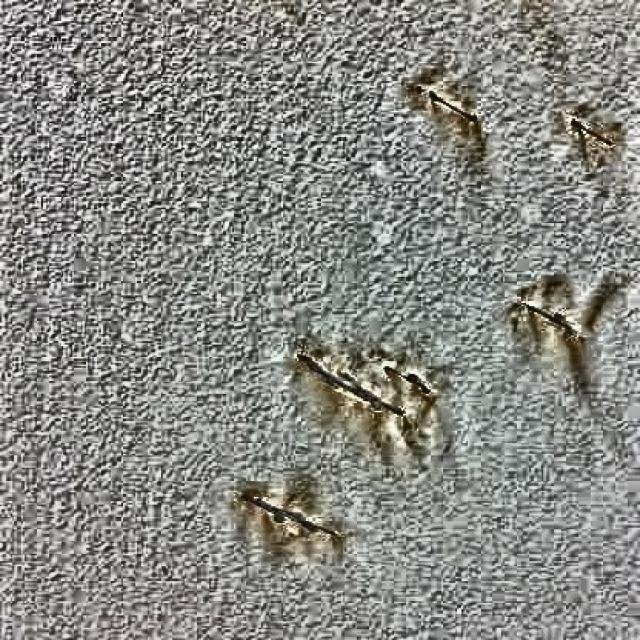crack: (298, 360, 400, 417), (245, 491, 342, 540), (523, 303, 588, 336), (430, 93, 476, 119), (391, 368, 431, 393), (580, 122, 614, 145)
